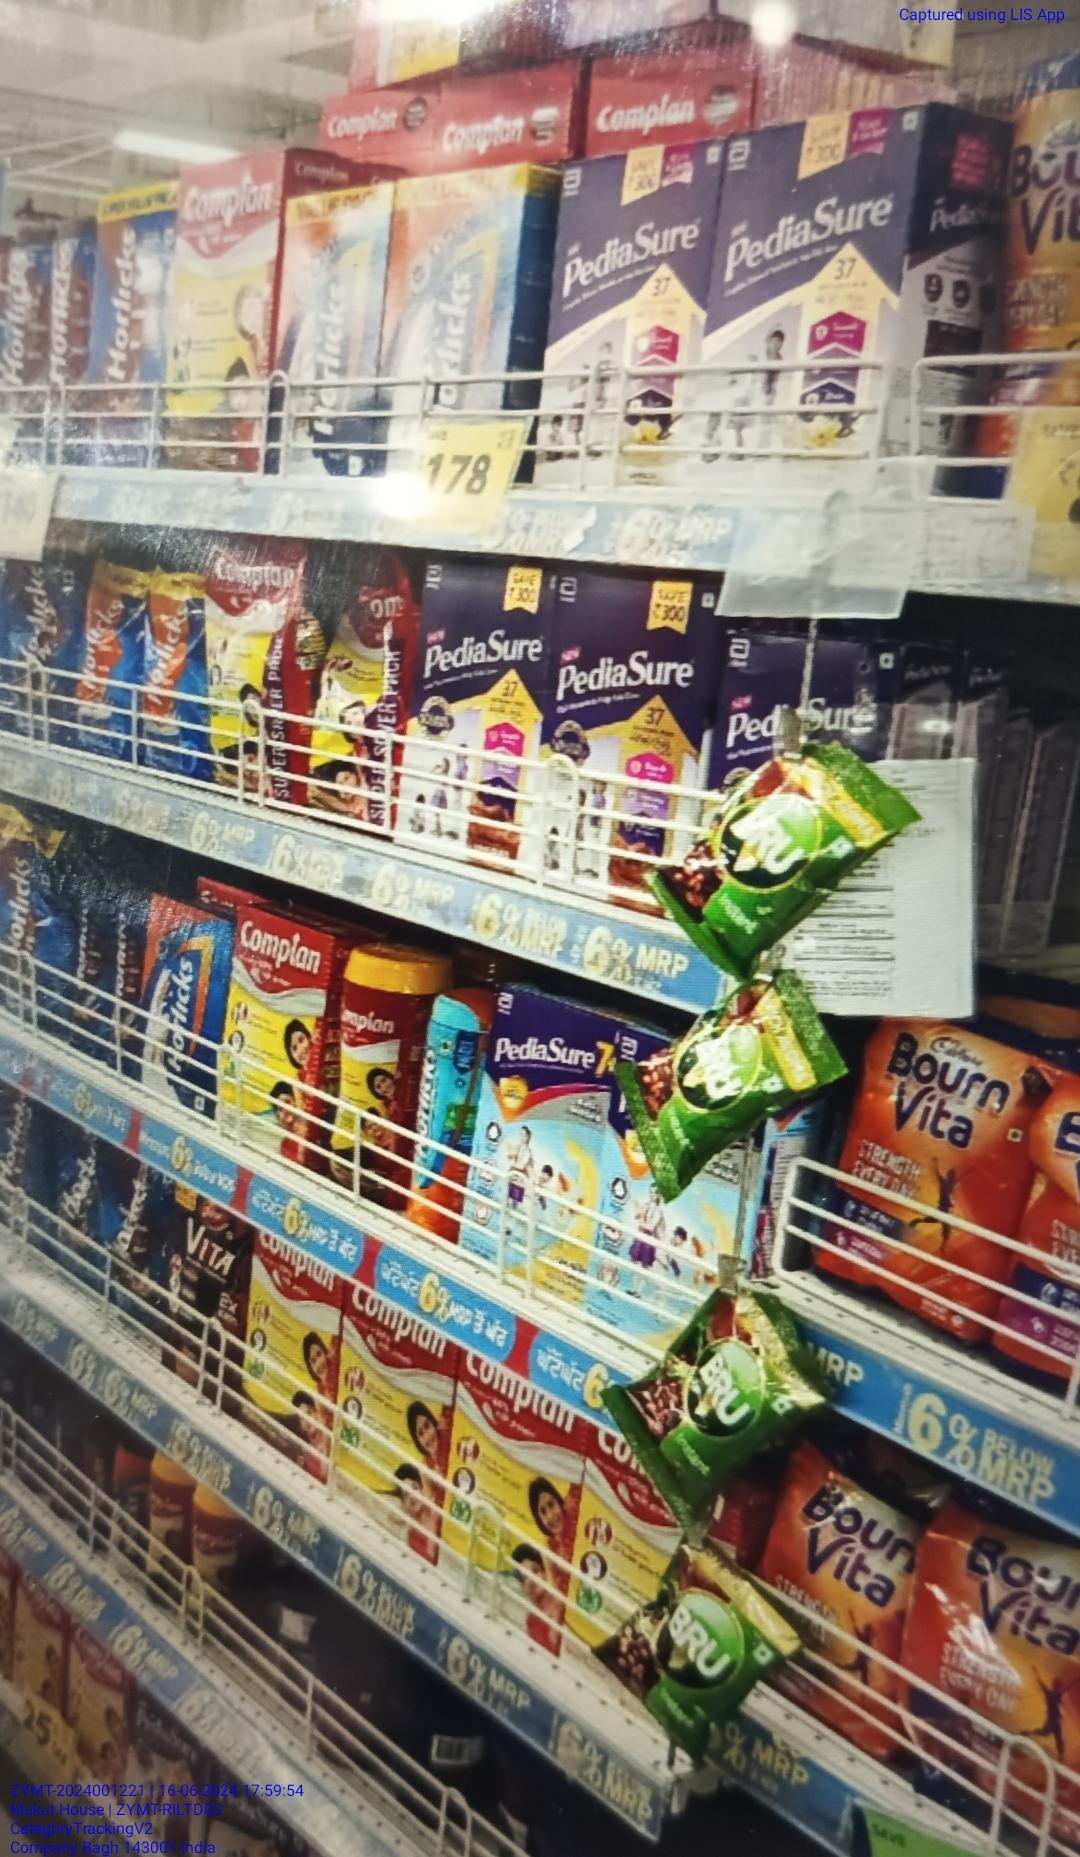HORLICKS_LITE_REGULAR_MALT_500_GM_JAR: (413, 986, 477, 1249)
